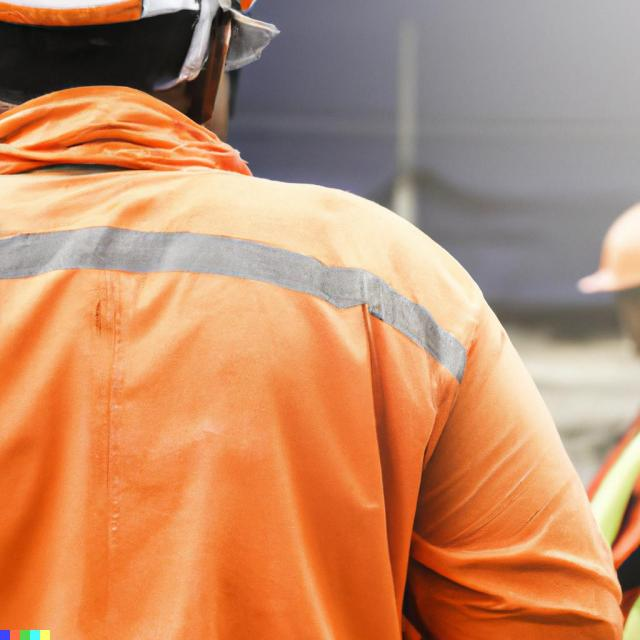Reflective-Jacket: (5, 98, 496, 640), (575, 344, 640, 640)
Safety-Helmet: (575, 189, 639, 302)
